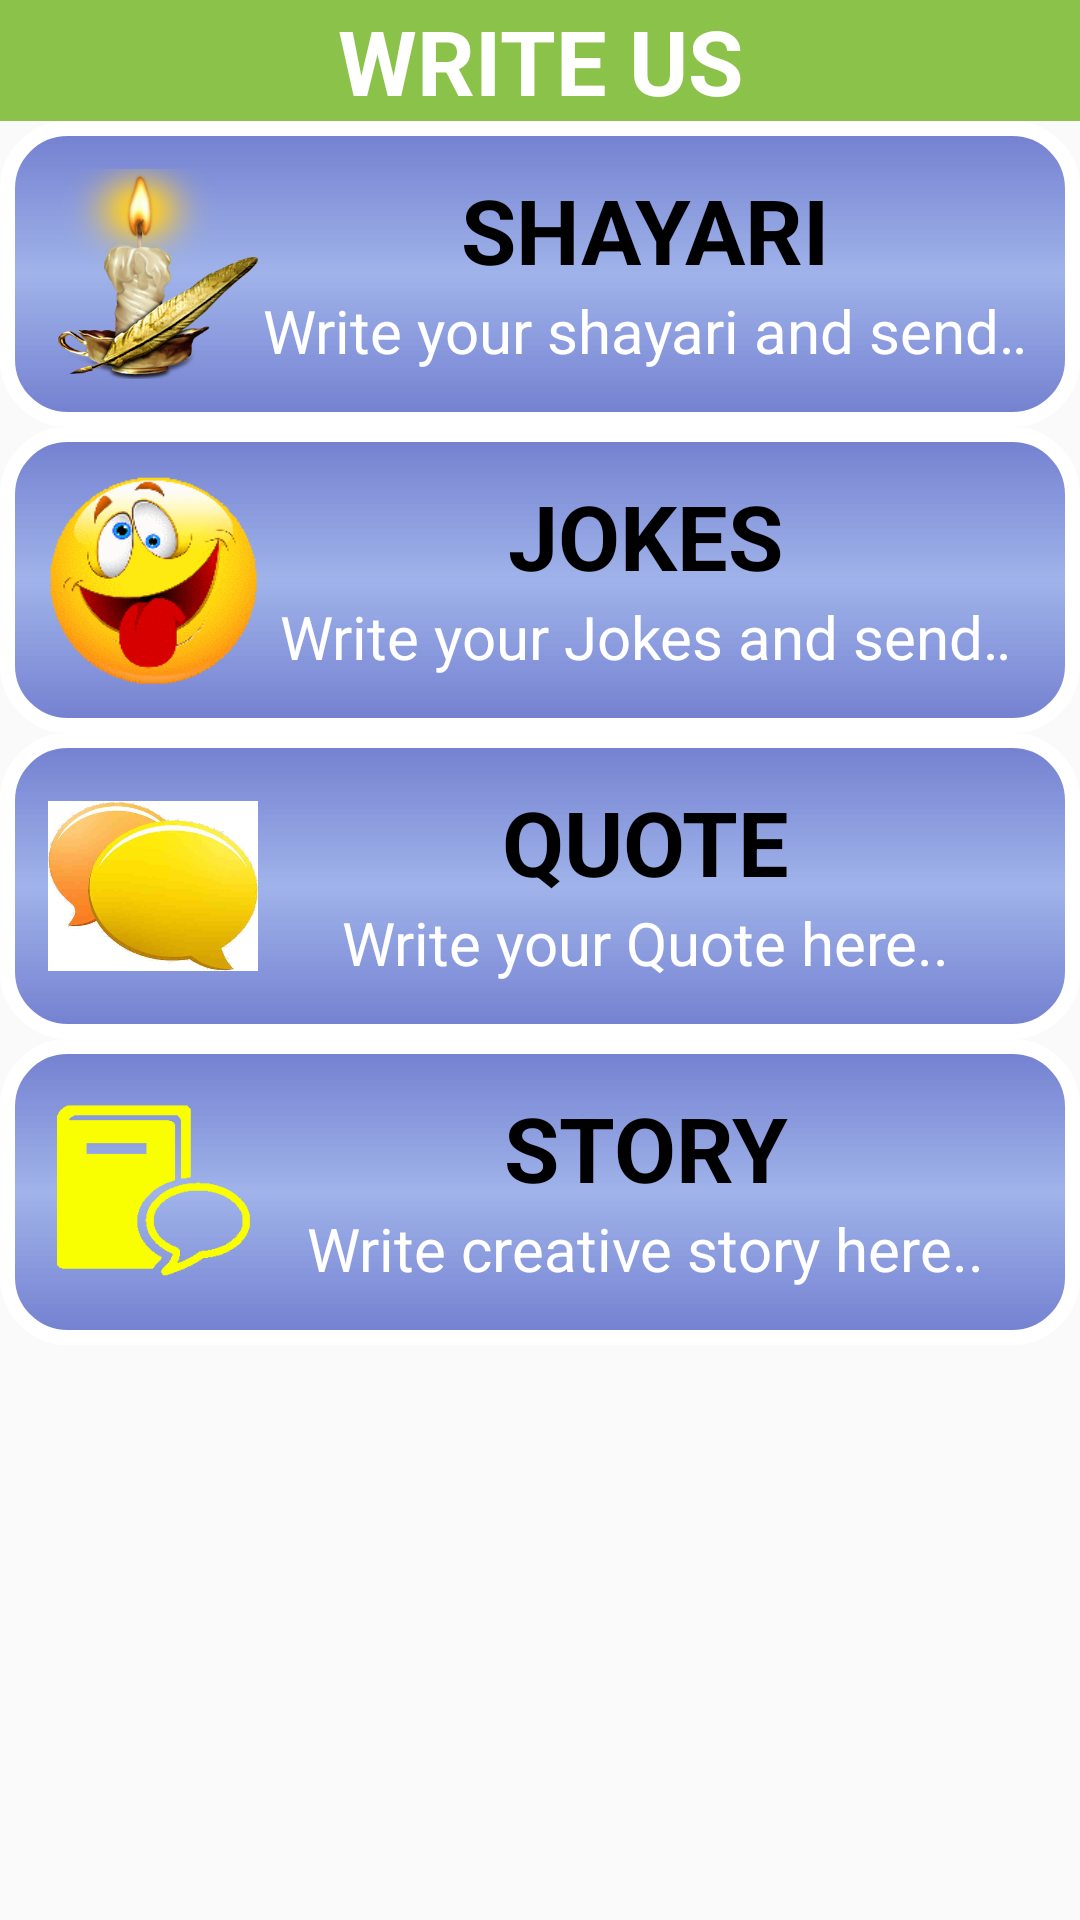

Icons on this 1080w x 1920h Android screen, each with its box as Rect(x1, y1, x2, y2):
shairy: Rect(48, 169, 258, 379)
